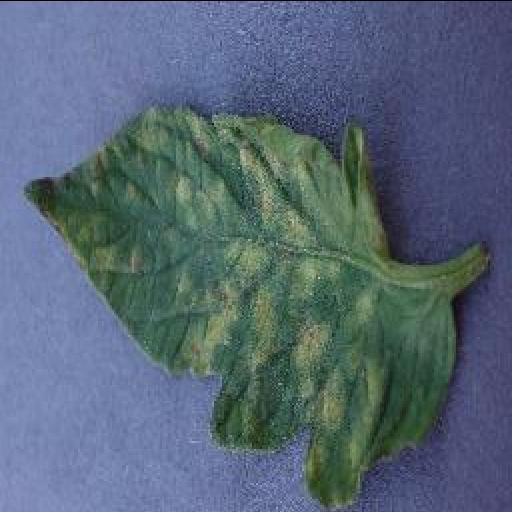disease_tomato: (20, 100, 456, 505)
